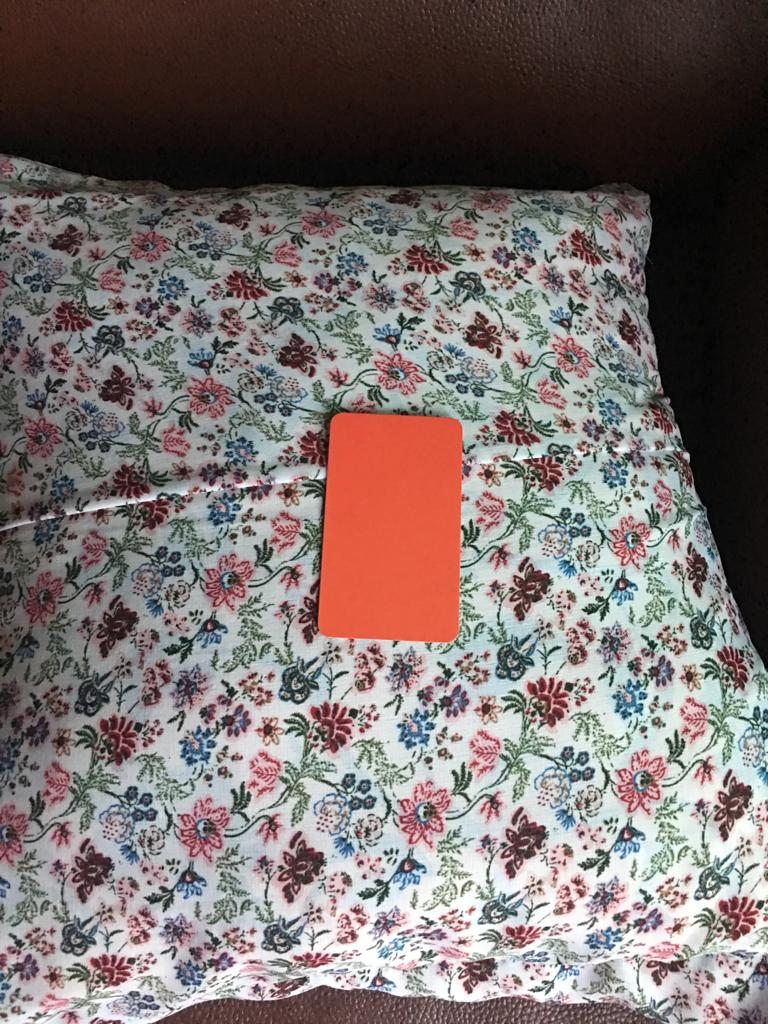red: (295, 378, 489, 672)
